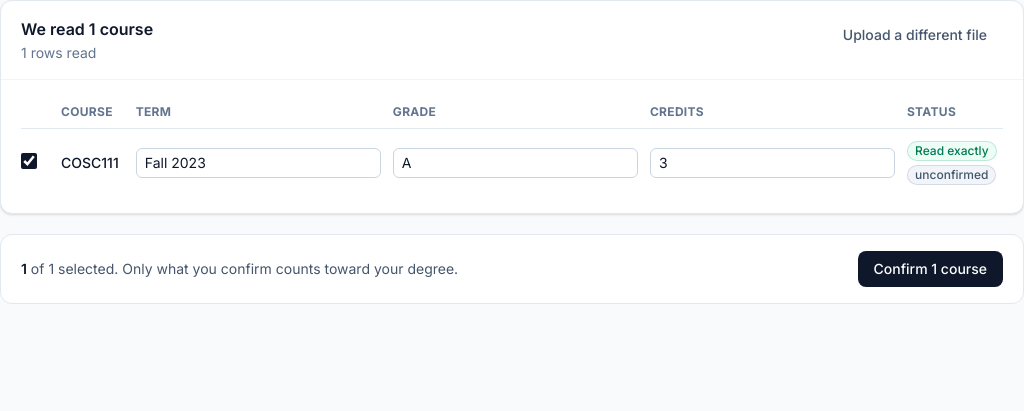
Scenario: ReviewStep › shows the error and stays on the screen when saving fails
The width and height of the screenshot is (1024, 411).
Click the button "Confirm 1 course": {"x": 930, "y": 269} 858,251 -> 1003,287
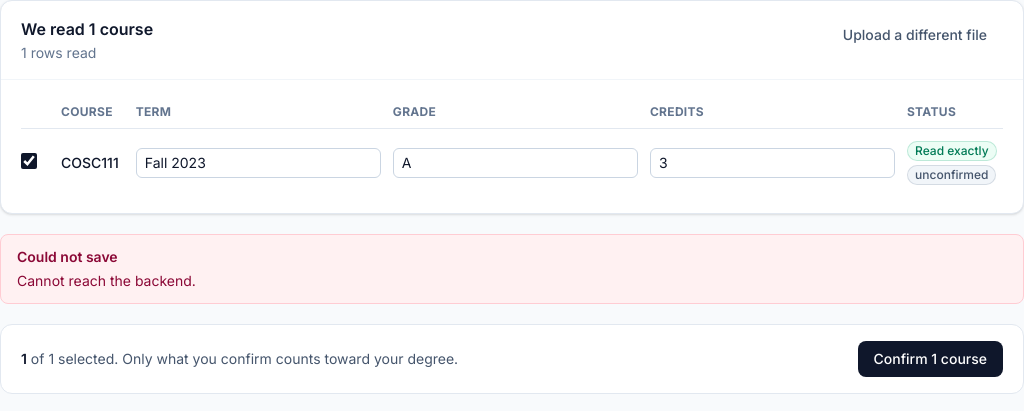
Expected: the text "Cannot reach the backend." is shown, 17,272 -> 196,289
Expected: the text "Could not save" is shown, 17,248 -> 118,265
